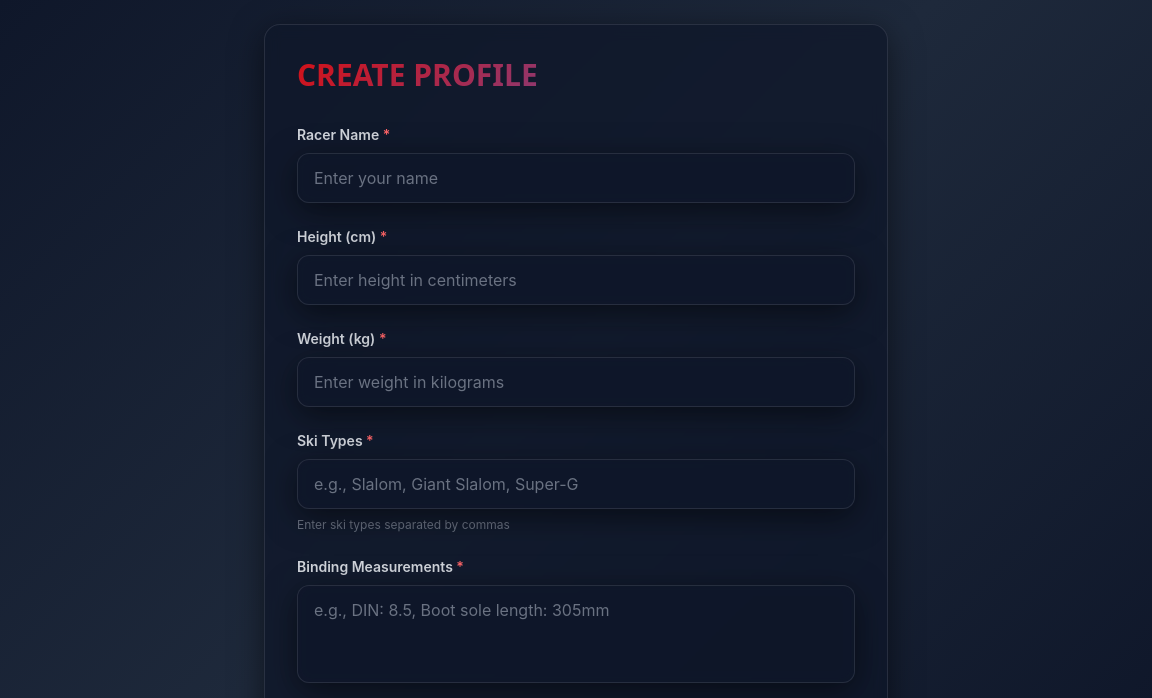
Scenario: ProfileForm › Validation › should show error when height is zero
Type "0" into the number field labelled "Height (cm) *" at (576, 280), box [297,255,855,305]
(page scrolled)
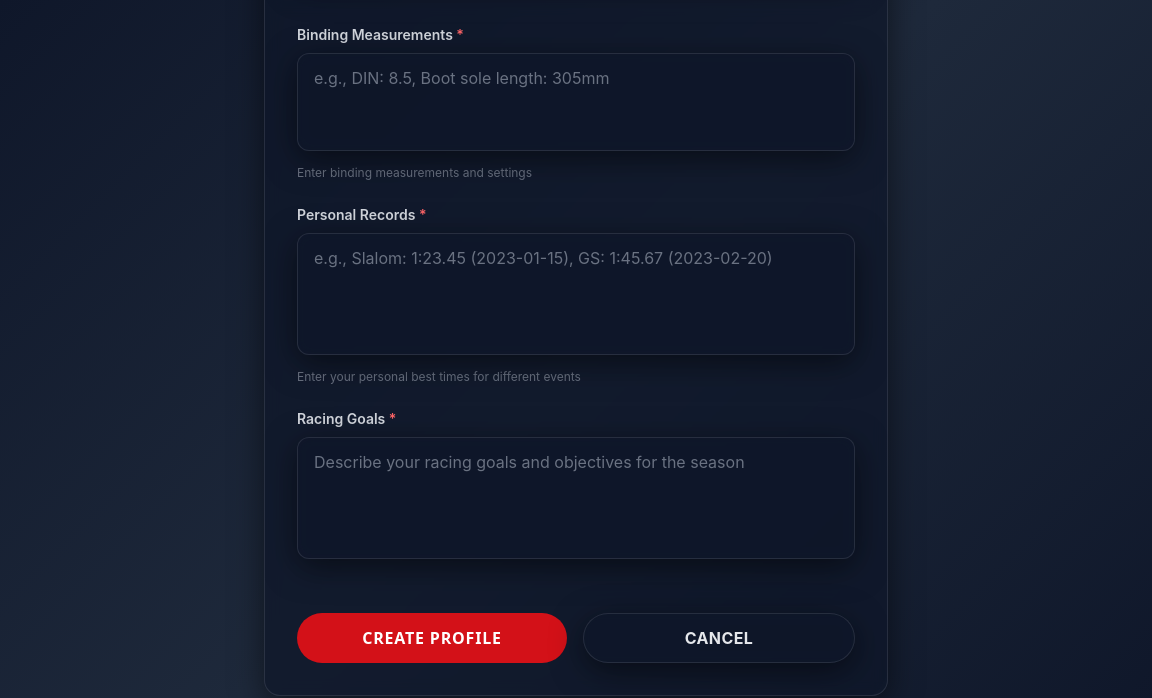
Click the button "Create Profile" at (432, 638), box [297,613,567,663]
(page scrolled)
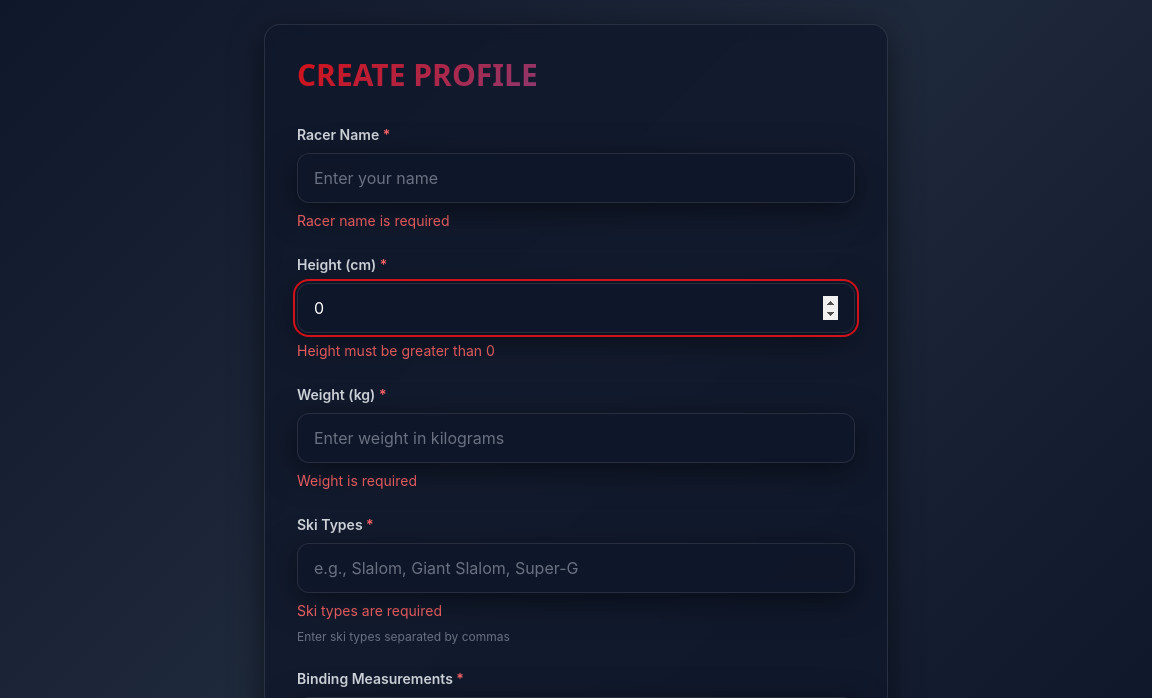
Expected: the text "Height must be greater than 0" is shown, [297,342,495,359]
